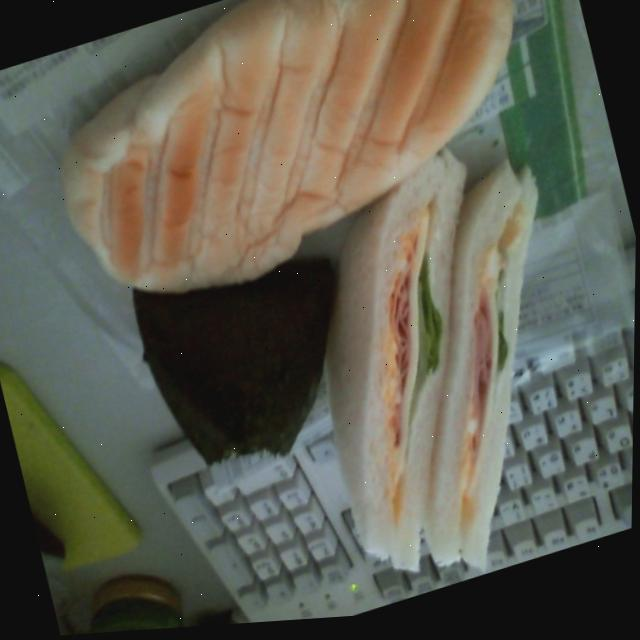三明治: (269, 112, 628, 618)
米饭主食: (121, 235, 380, 506)
